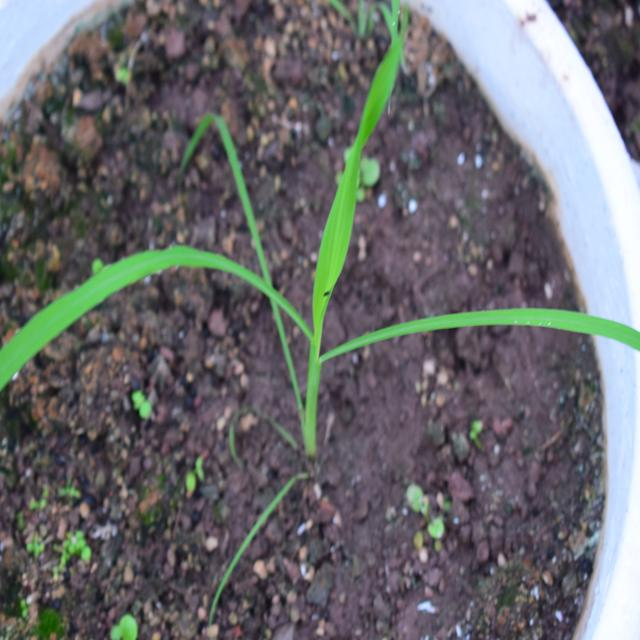barnyard_grass: (16, 58, 636, 402)
